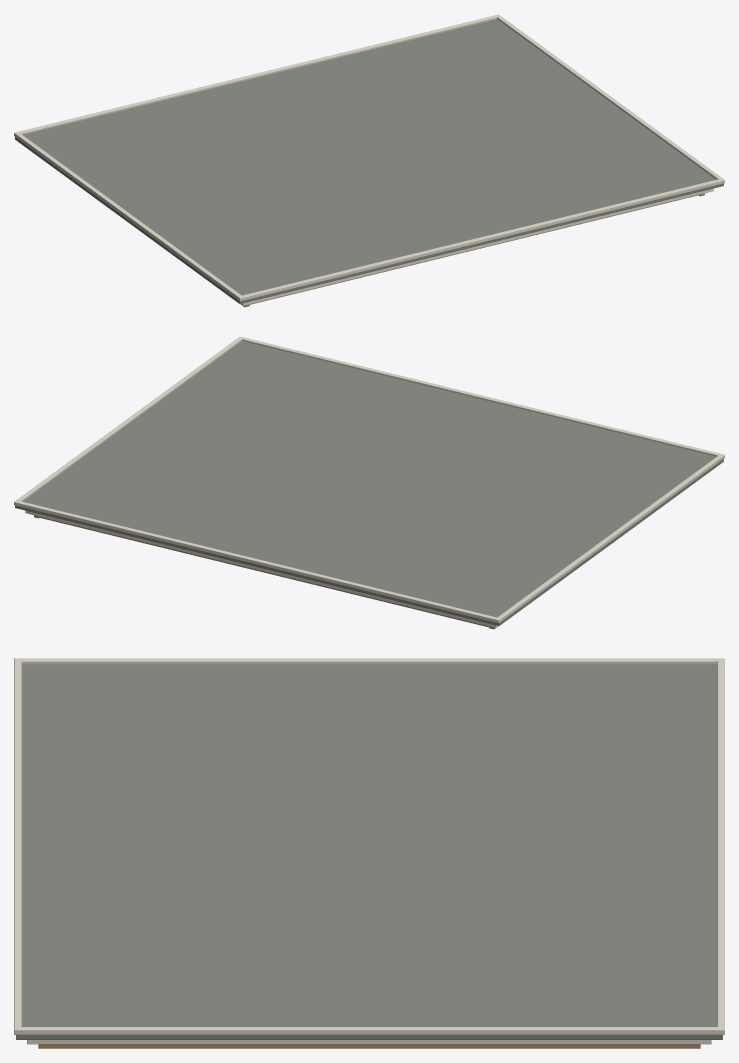
Rendered from form-thread-roof.glb.
3 views of the same model, one above another, from view 1: azimuth 30°, elevation 25°; view 2: azimuth 150°, elevation 25°; view 3: azimuth 270°, elevation 25° (orthographic). The views are drawn at different scales.
Parts seen in each view (by area): view 1: Shop roof weathering, Shop honed limestone, Shop ivory plaster, Shop white oak; view 2: Shop roof weathering, Shop honed limestone, Shop ivory plaster, Shop white oak; view 3: Shop roof weathering, Shop honed limestone, Shop ivory plaster, Shop white oak.
Part boxes in pixels (left/top/right/bottom): Shop roof weathering: left=15, top=19, right=723, bottom=303; Shop honed limestone: left=14, top=14, right=724, bottom=301; Shop ivory plaster: left=240, top=188, right=713, bottom=305; Shop white oak: left=242, top=193, right=704, bottom=307; Shop roof weathering: left=15, top=341, right=723, bottom=625; Shop honed limestone: left=14, top=336, right=724, bottom=623; Shop ivory plaster: left=25, top=510, right=498, bottom=627; Shop white oak: left=34, top=515, right=496, bottom=629; Shop roof weathering: left=16, top=664, right=722, bottom=1039; Shop honed limestone: left=14, top=658, right=724, bottom=1034; Shop ivory plaster: left=27, top=1040, right=711, bottom=1044; Shop white oak: left=38, top=1044, right=700, bottom=1048.
Size of the model in its own units: 20.72 by 1.84 by 16.74.
